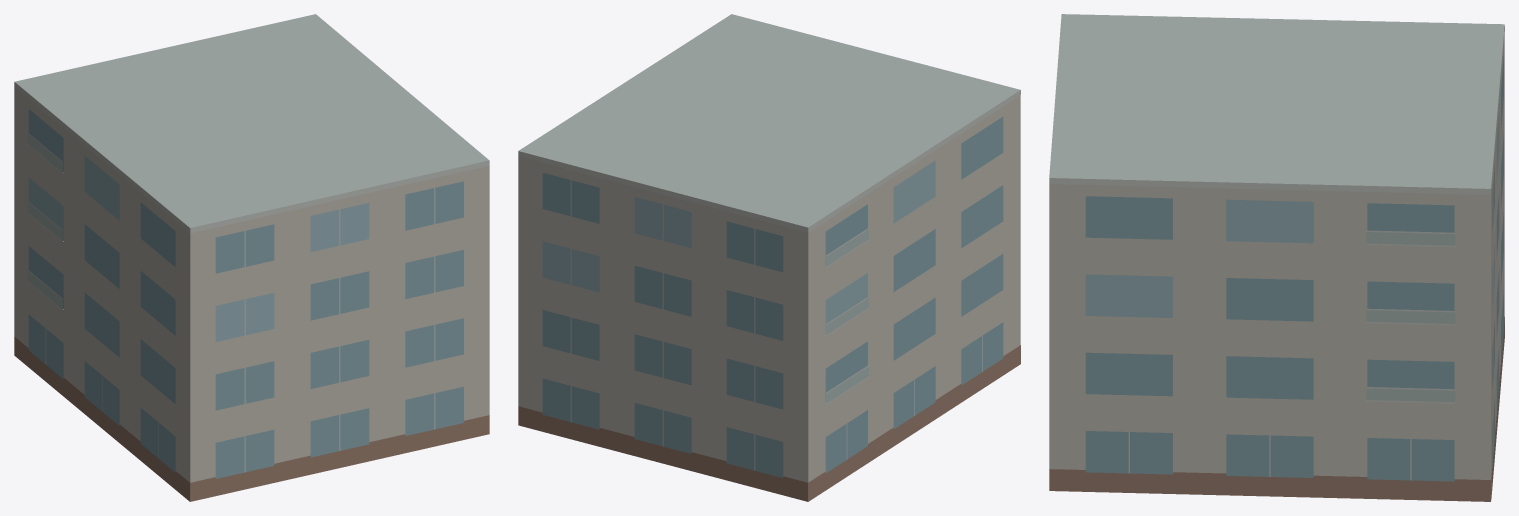
File: survey-upis-32990032.glb
3 renders of one model, left to right at view 1: azimuth 30°, elevation 25°; view 2: azimuth 150°, elevation 25°; view 3: azimuth 270°, elevation 25°, orthographic. The views are drawn at different scales.
Visible parts, largest first — view 1: survey-upis-32990032.tmp; view 2: survey-upis-32990032.tmp; view 3: survey-upis-32990032.tmp.
Boxes of the visible parts, <box> form: survey-upis-32990032.tmp: <box>14,14,489,501</box>; survey-upis-32990032.tmp: <box>518,14,1020,501</box>; survey-upis-32990032.tmp: <box>1049,14,1504,501</box>.
Bounding box in the file's own units: 15.09 × 12.58 × 16.61.
